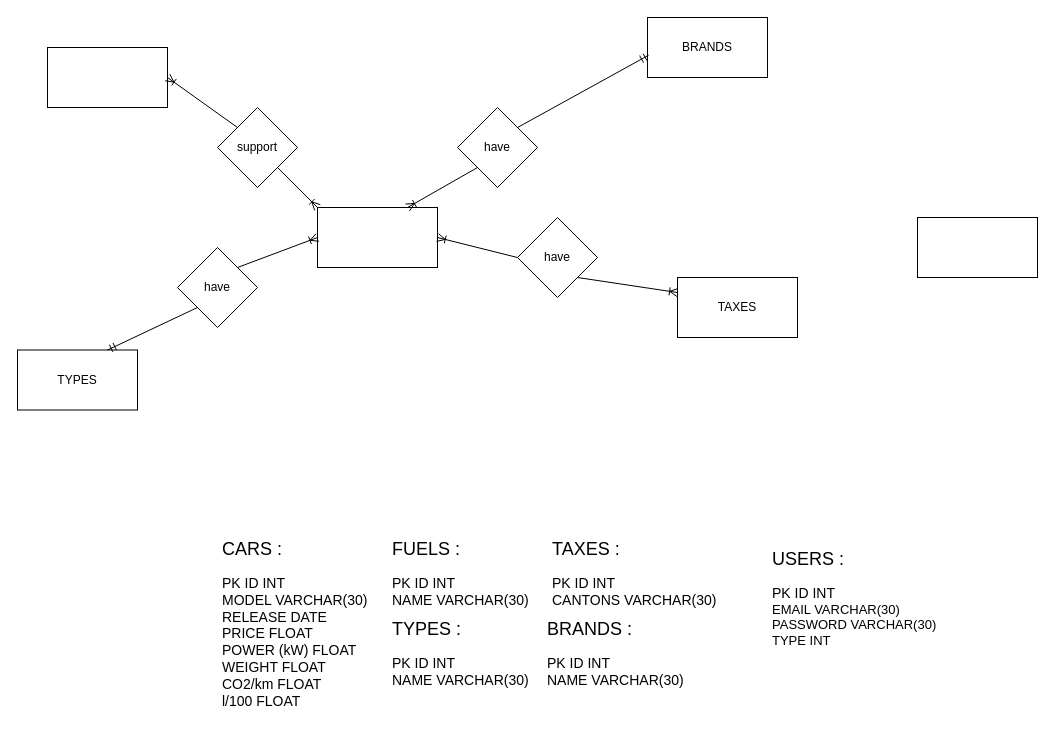
The diagram is 1055 pixels wide and 735 high, and some of its shapes have lost their labels. Each missing label, with the centre of its shape:
"CARS" goes at (x=377, y=237).
"FUELS" goes at (x=107, y=77).
"USERS" goes at (x=977, y=247).
